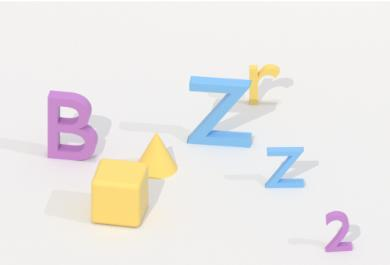2: (322, 207, 357, 257)
B: (42, 84, 101, 164)
Z: (185, 73, 252, 152), (262, 141, 307, 193)
r: (246, 59, 282, 109)
